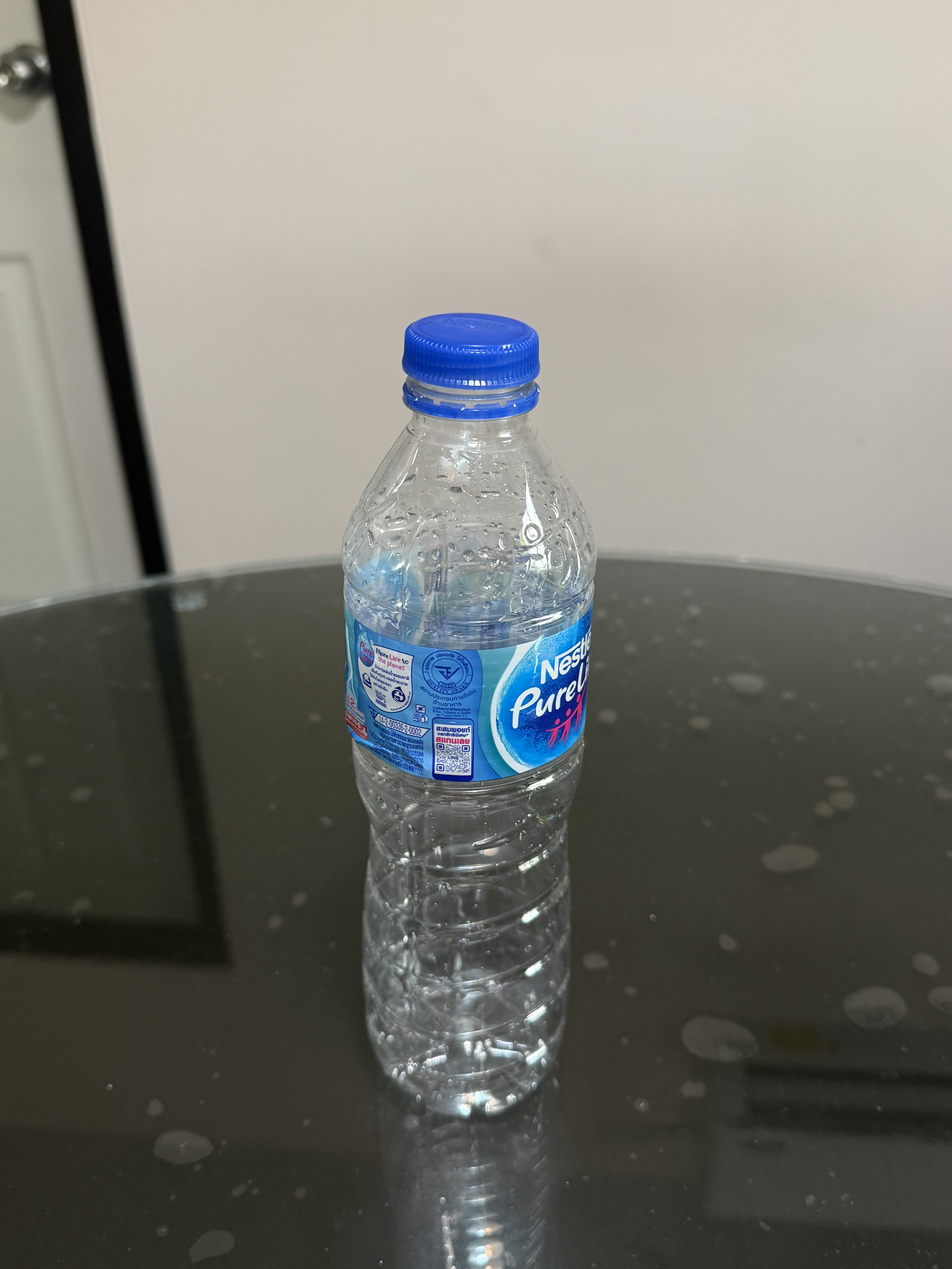half_cap: (395, 307, 544, 419)
